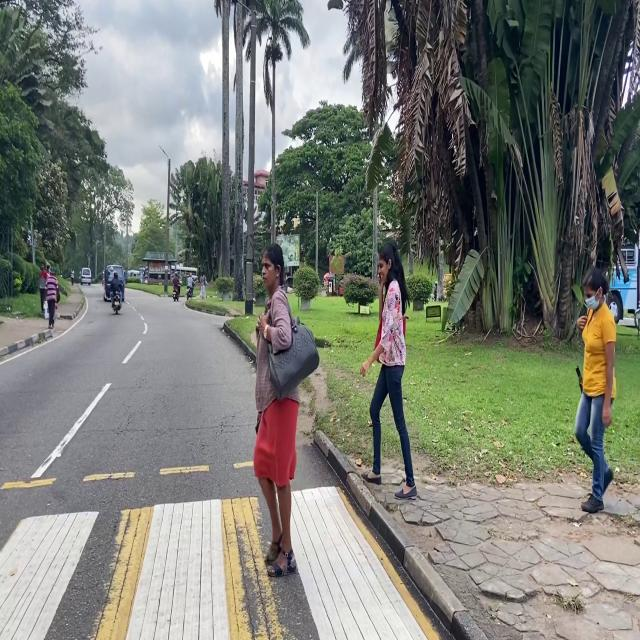bus: (609, 244, 640, 323), (172, 264, 197, 279)
motorcycle: (112, 291, 121, 314), (172, 287, 179, 302), (187, 287, 192, 299)
person: (254, 244, 318, 577), (361, 242, 417, 497), (575, 267, 616, 514), (46, 269, 59, 330), (39, 261, 47, 317), (110, 272, 122, 302), (172, 274, 180, 295), (200, 272, 206, 299), (187, 275, 194, 297), (71, 271, 74, 284)
van: (104, 264, 125, 301), (80, 268, 91, 284)
